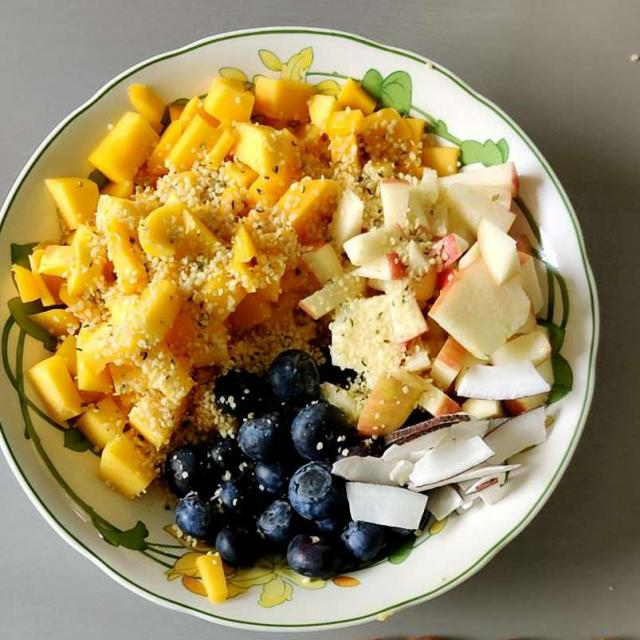apple: (355, 146, 561, 421)
blueberries: (182, 370, 387, 564)
coconut: (347, 343, 549, 538)
mango: (32, 67, 366, 496)
